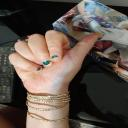ThumbsUp: (8, 24, 107, 94)
